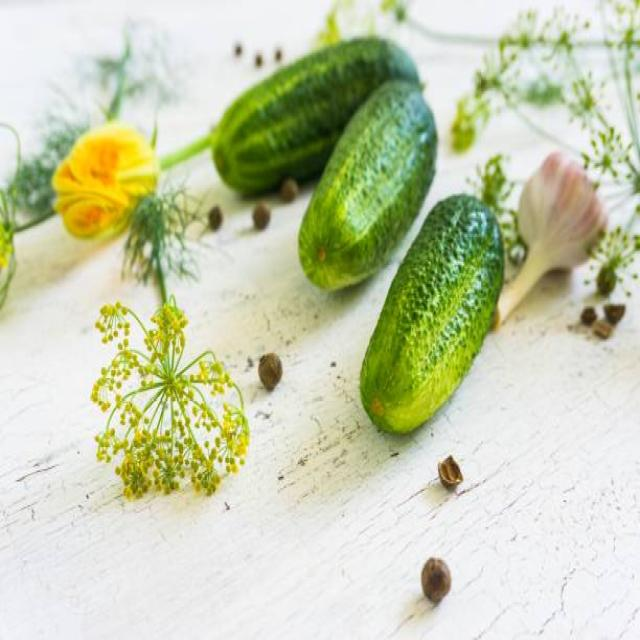cucumber: (359, 192, 505, 436), (298, 79, 438, 293)
